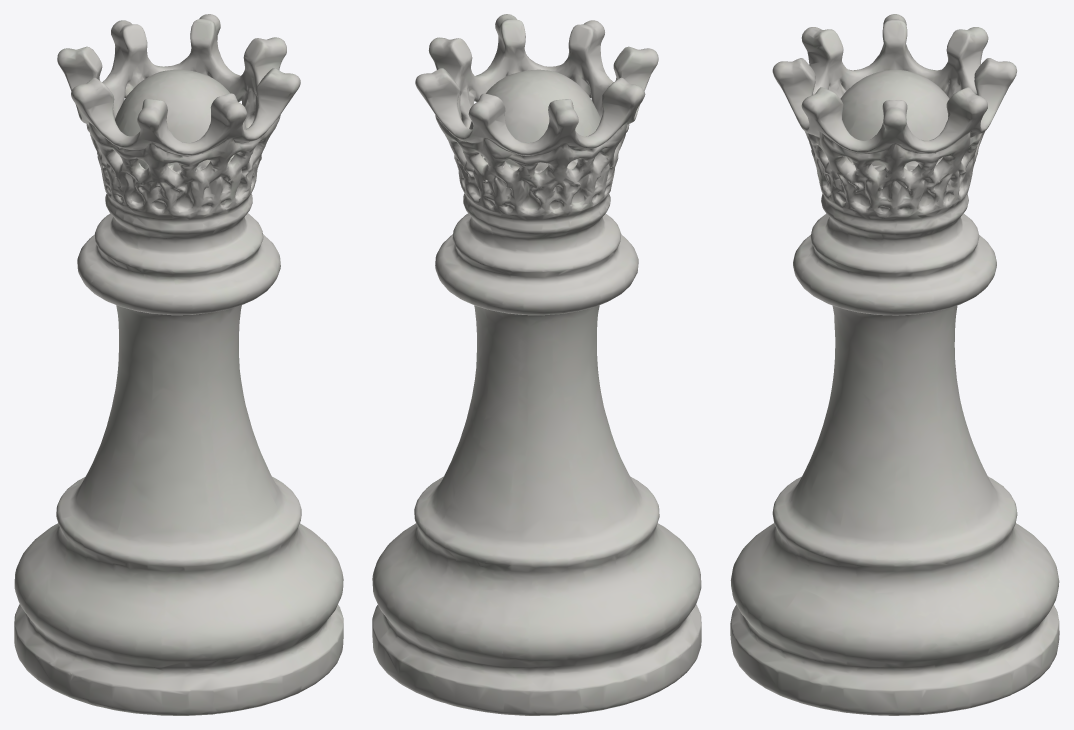
The model's file is queen_low.glb.
3 renders of one model, left to right at view 1: azimuth 30°, elevation 25°; view 2: azimuth 150°, elevation 25°; view 3: azimuth 270°, elevation 25°, orthographic.
Parts seen in each view (by area): view 1: geometry_0; view 2: geometry_0; view 3: geometry_0.
Part boxes in pixels (bbox=[...]): geometry_0: bbox=[14, 14, 343, 715]; geometry_0: bbox=[372, 14, 701, 715]; geometry_0: bbox=[730, 14, 1059, 715].
Size of the model in its own units: 0.5064 by 1 by 0.5063.
Materials: 1 (1 with a texture image).
